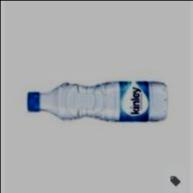bottle: (24, 78, 170, 123)
